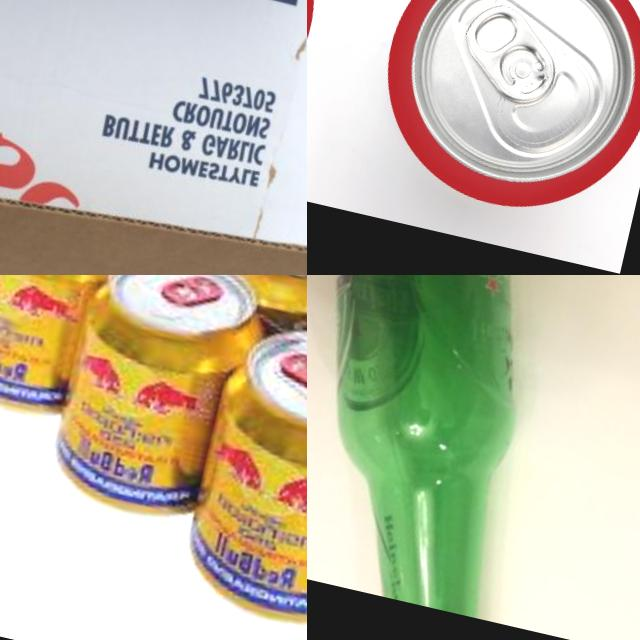aba de lata: (451, 0, 570, 111), (153, 275, 225, 318)
garrafa de vidro: (307, 275, 585, 618)
lata: (45, 275, 266, 524), (388, 0, 640, 203), (174, 305, 307, 640), (0, 275, 152, 429), (188, 275, 307, 349)
papelão: (0, 0, 307, 275)
